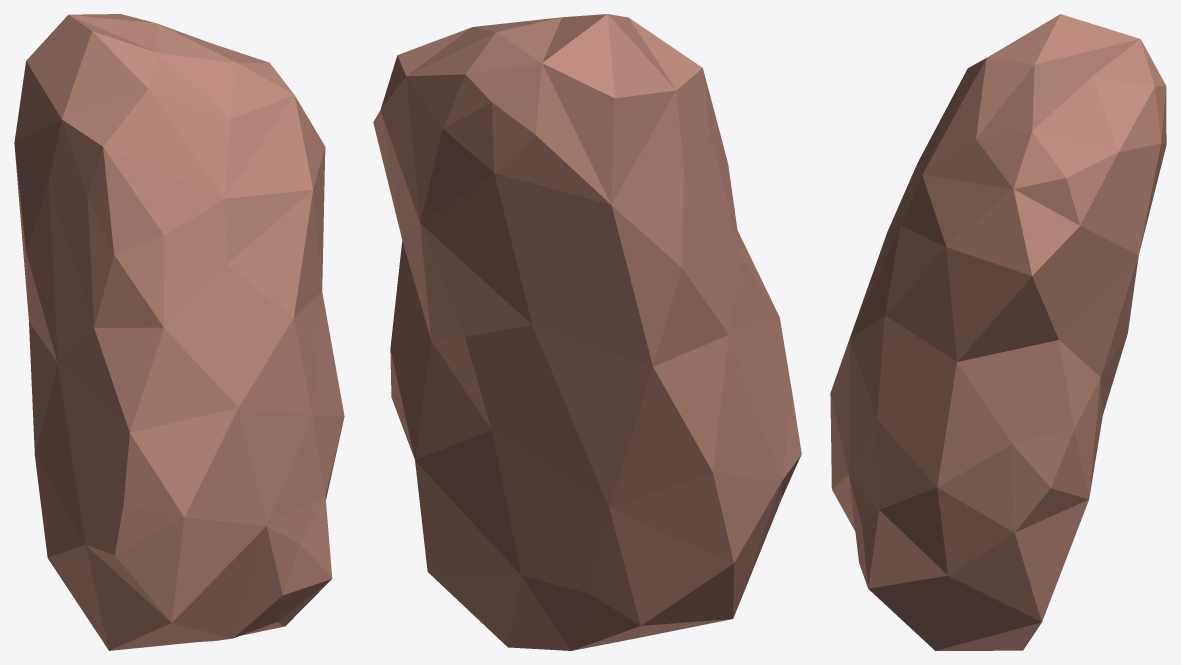
The model's file is boulder_013.fbx.
The picture shows the model from 3 angles, left to right: view 1: azimuth 30°, elevation 25°; view 2: azimuth 150°, elevation 25°; view 3: azimuth 270°, elevation 25°; orthographic projection. The views are drawn at different scales.
Visible parts, largest first — view 1: boulder_013; view 2: boulder_013; view 3: boulder_013.
Boxes of the visible parts, left/top/right/bottom form: boulder_013: left=14, top=14, right=344, bottom=650; boulder_013: left=373, top=14, right=801, bottom=650; boulder_013: left=830, top=14, right=1166, bottom=650.
Size of the model in its own units: 924 by 912 by 1753.
